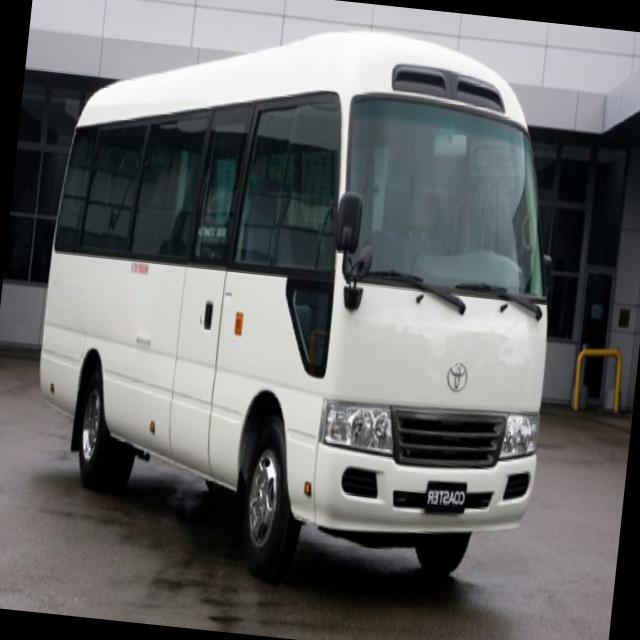bus: (19, 0, 580, 610)
